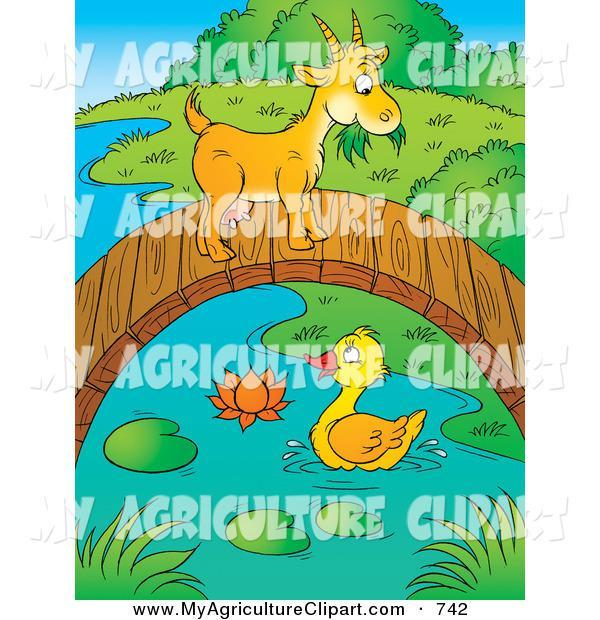bird: (296, 323, 430, 471)
cow: (169, 14, 407, 266)
